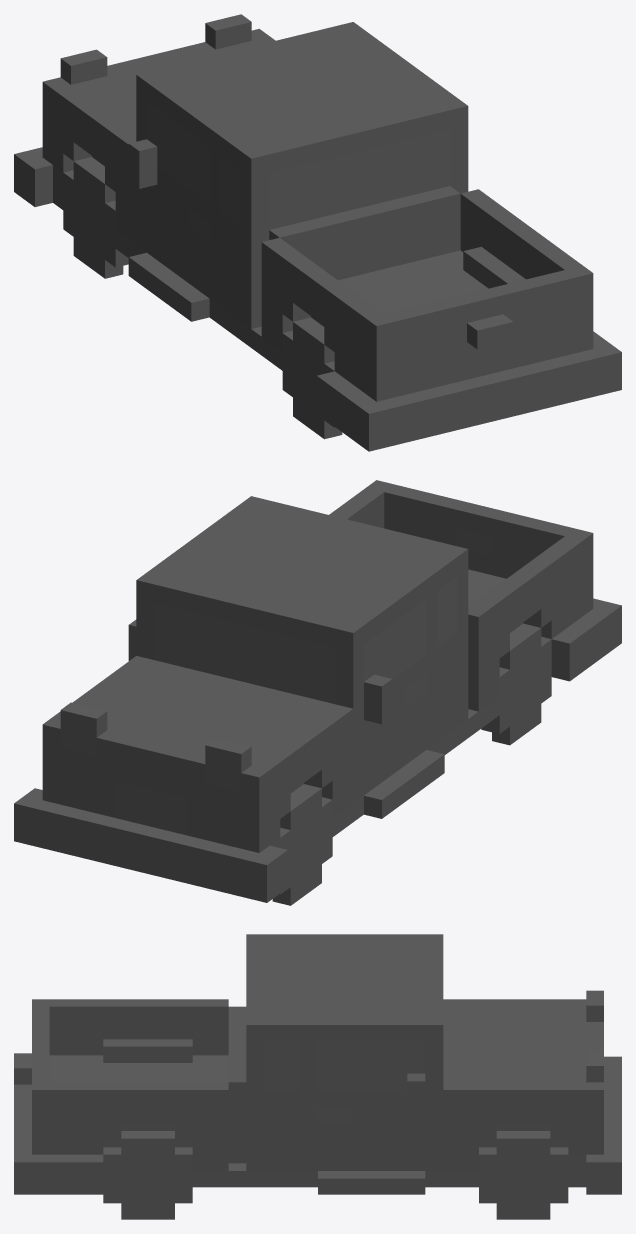
File: veh_truck7.obj
3 renders of one model, top to bottom at view 1: azimuth 30°, elevation 25°; view 2: azimuth 150°, elevation 25°; view 3: azimuth 270°, elevation 25°, orthographic. The views are drawn at different scales.
Bounding box in the file's own units: 14 × 12 × 34.
